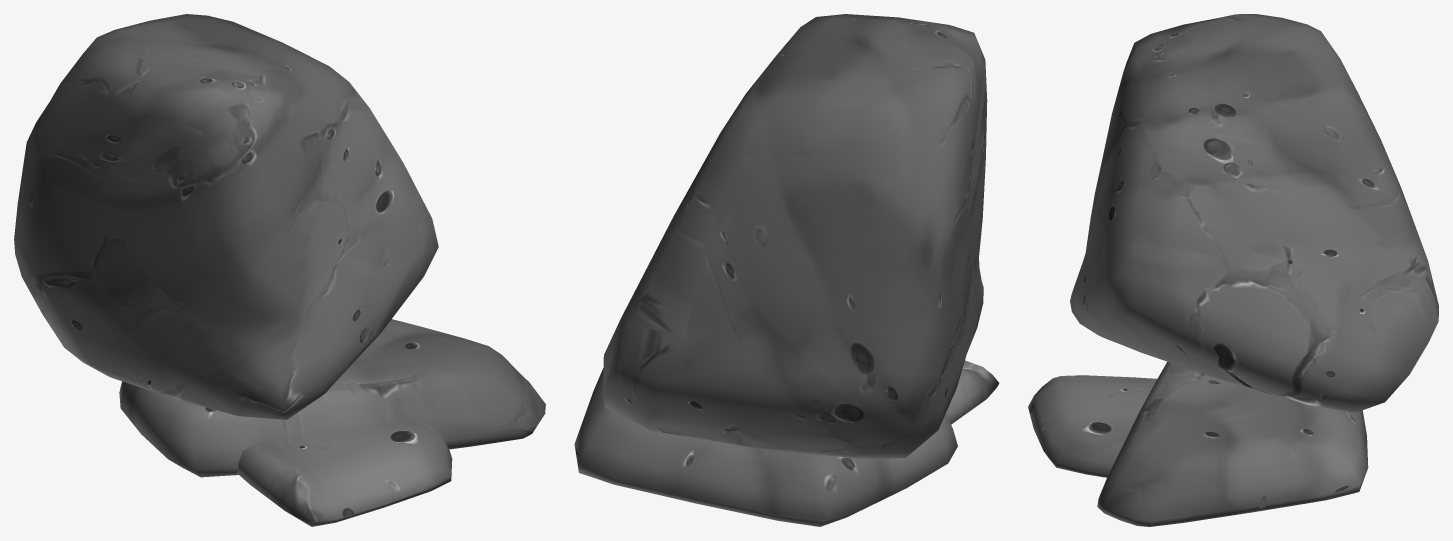
Rendered from SM_ENV_stone_07.fbx.
3 views of the same model, side by side, from view 1: azimuth 30°, elevation 25°; view 2: azimuth 150°, elevation 25°; view 3: azimuth 270°, elevation 25° (orthographic). The views are drawn at different scales.
Visible parts, largest first — view 1: SM_ENV_stone_07_LOD0; view 2: SM_ENV_stone_07_LOD0; view 3: SM_ENV_stone_07_LOD0.
Boxes of the visible parts, left/top/right/bottom form: SM_ENV_stone_07_LOD0: left=14, top=14, right=545, bottom=526; SM_ENV_stone_07_LOD0: left=574, top=14, right=999, bottom=526; SM_ENV_stone_07_LOD0: left=1028, top=14, right=1438, bottom=526.
Size of what is drawn, in the model's own units: 354 by 335 by 345.
